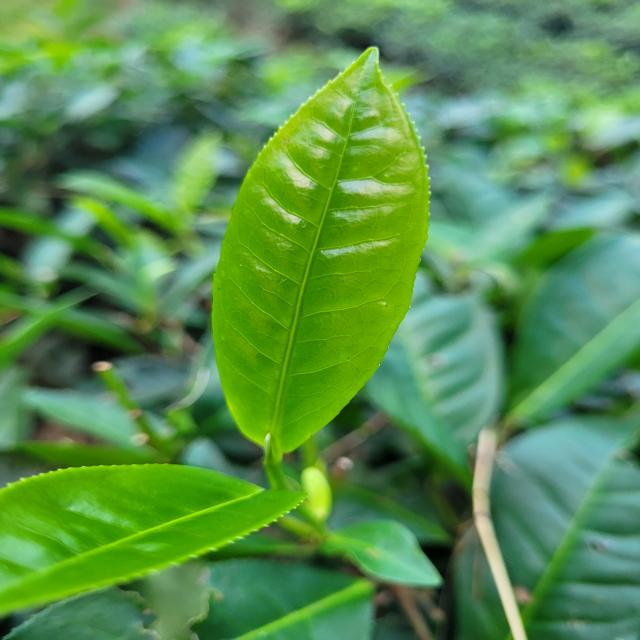Catagory A(1-2 days): (199, 32, 440, 463)
